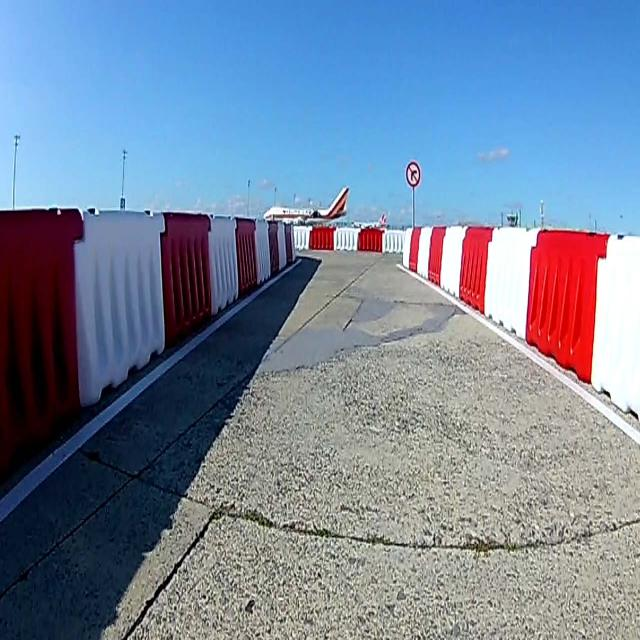sagadonulmez: (406, 162, 421, 186)
